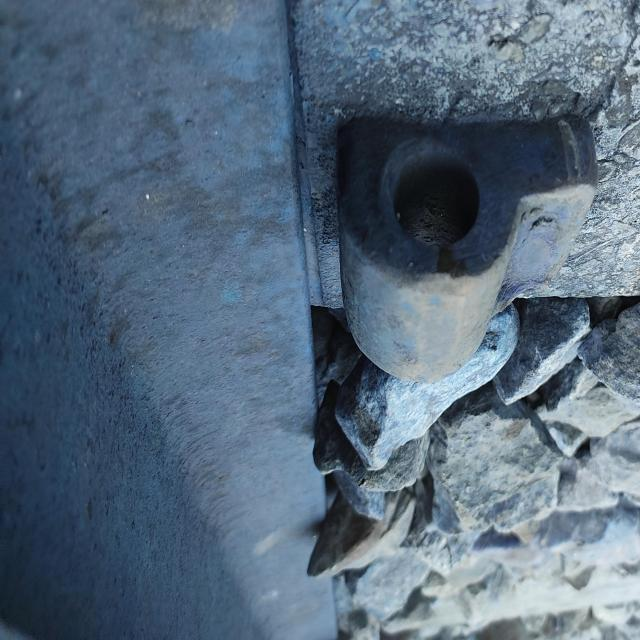Missing Fastener: (309, 73, 606, 380)
